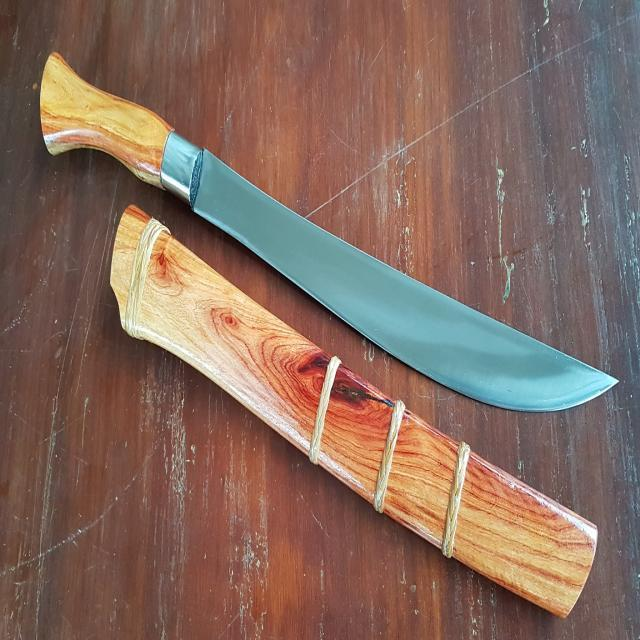short sword: (30, 41, 620, 622)
